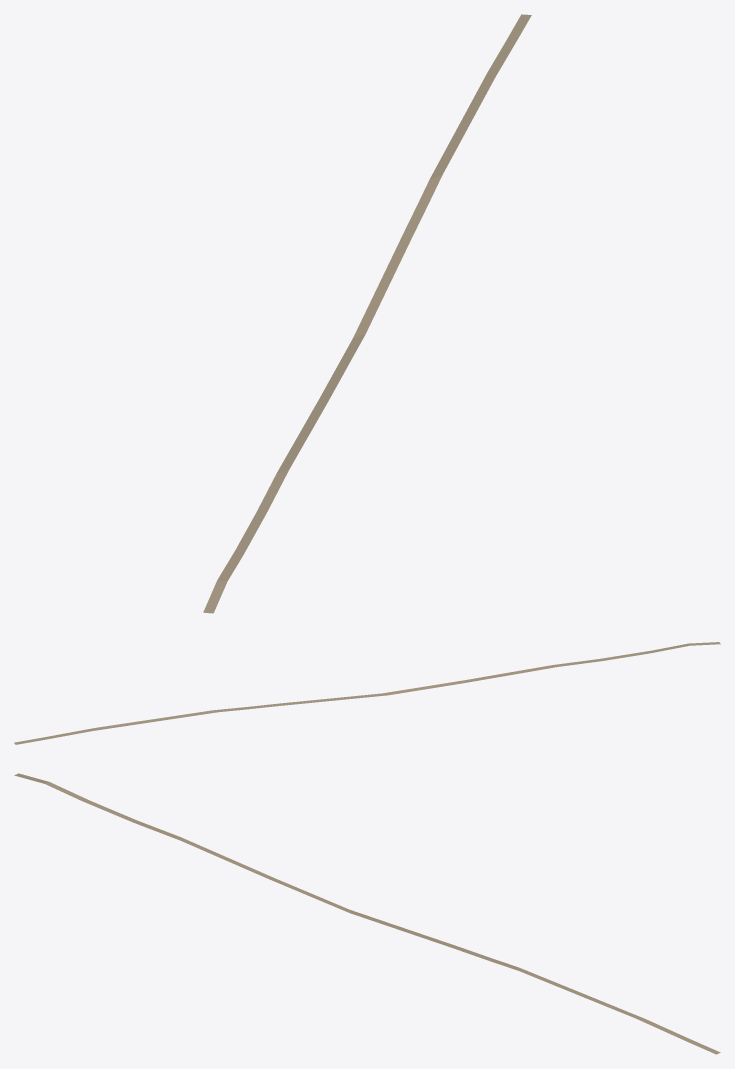
The model's file is farm_-33_-31_track.glb.
3 renders of one model, top to bottom at view 1: azimuth 30°, elevation 25°; view 2: azimuth 150°, elevation 25°; view 3: azimuth 270°, elevation 25°, orthographic. The views are drawn at different scales.
Parts seen in each view (by area): view 1: geometry_0; view 2: geometry_0; view 3: geometry_0.
Part boxes in pixels (<box>): geometry_0: <box>203,14,531,613</box>; geometry_0: <box>14,642,720,744</box>; geometry_0: <box>14,773,720,1054</box>.
Bounding box in the file's own units: 306 × 6.21 × 335.
